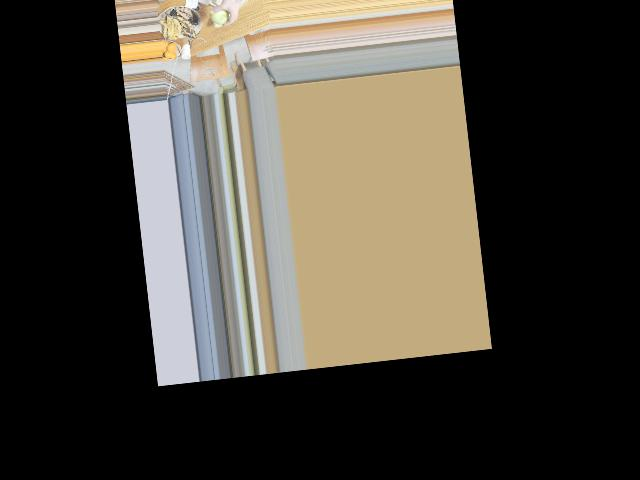apple: (209, 4, 231, 27)
